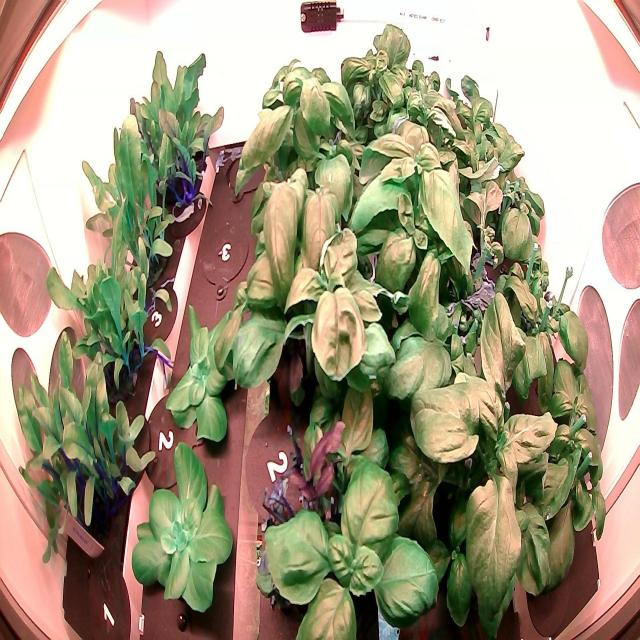empty_pod: (191, 203, 254, 301), (218, 135, 273, 214)
young: (125, 434, 248, 622), (155, 298, 255, 456)
